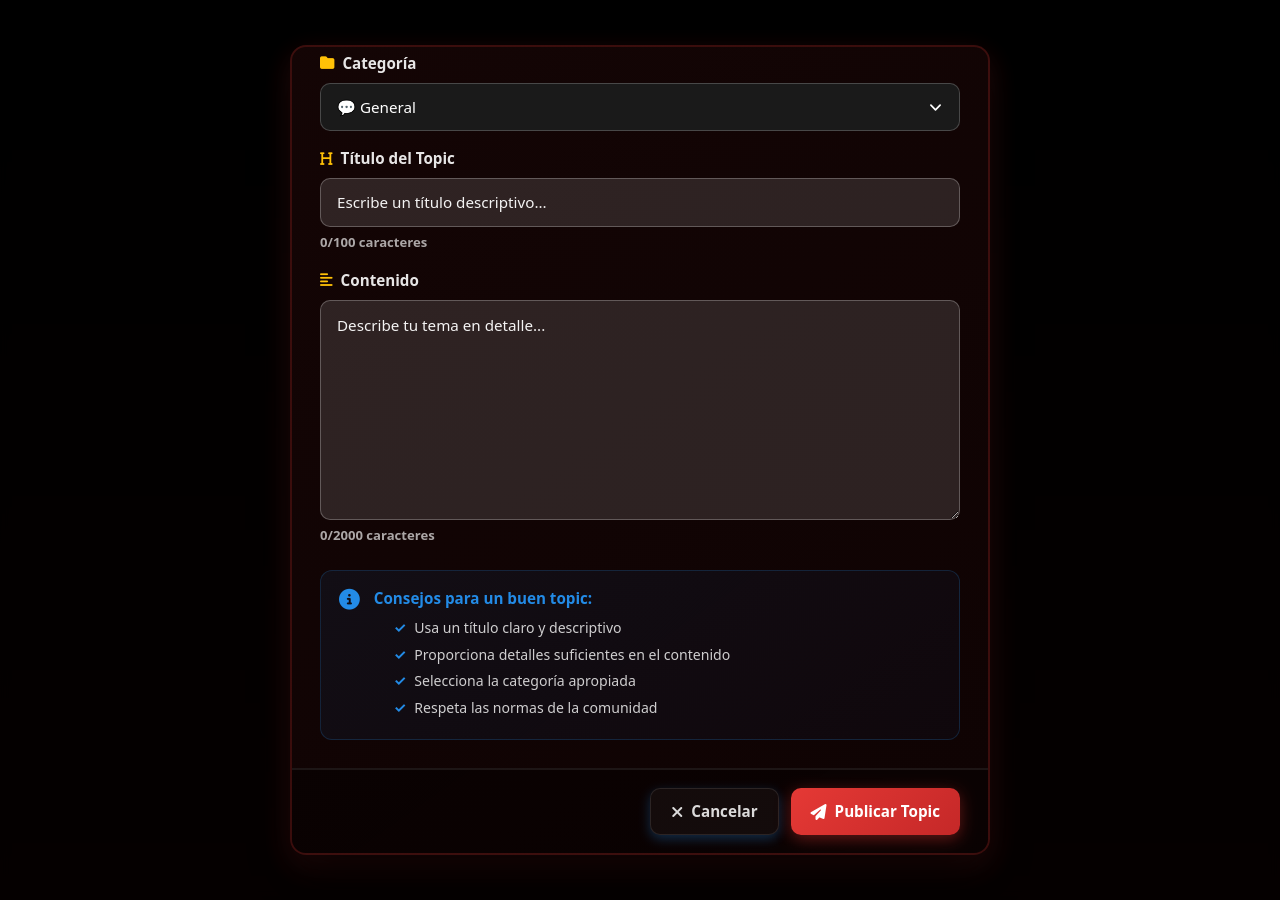
Test: CreateTopicModal › valida campos requeridos y muestra errores
(page scrolled)
Click the button "Publicar Topic".
click(875, 812)  # box 791,788 -> 960,835
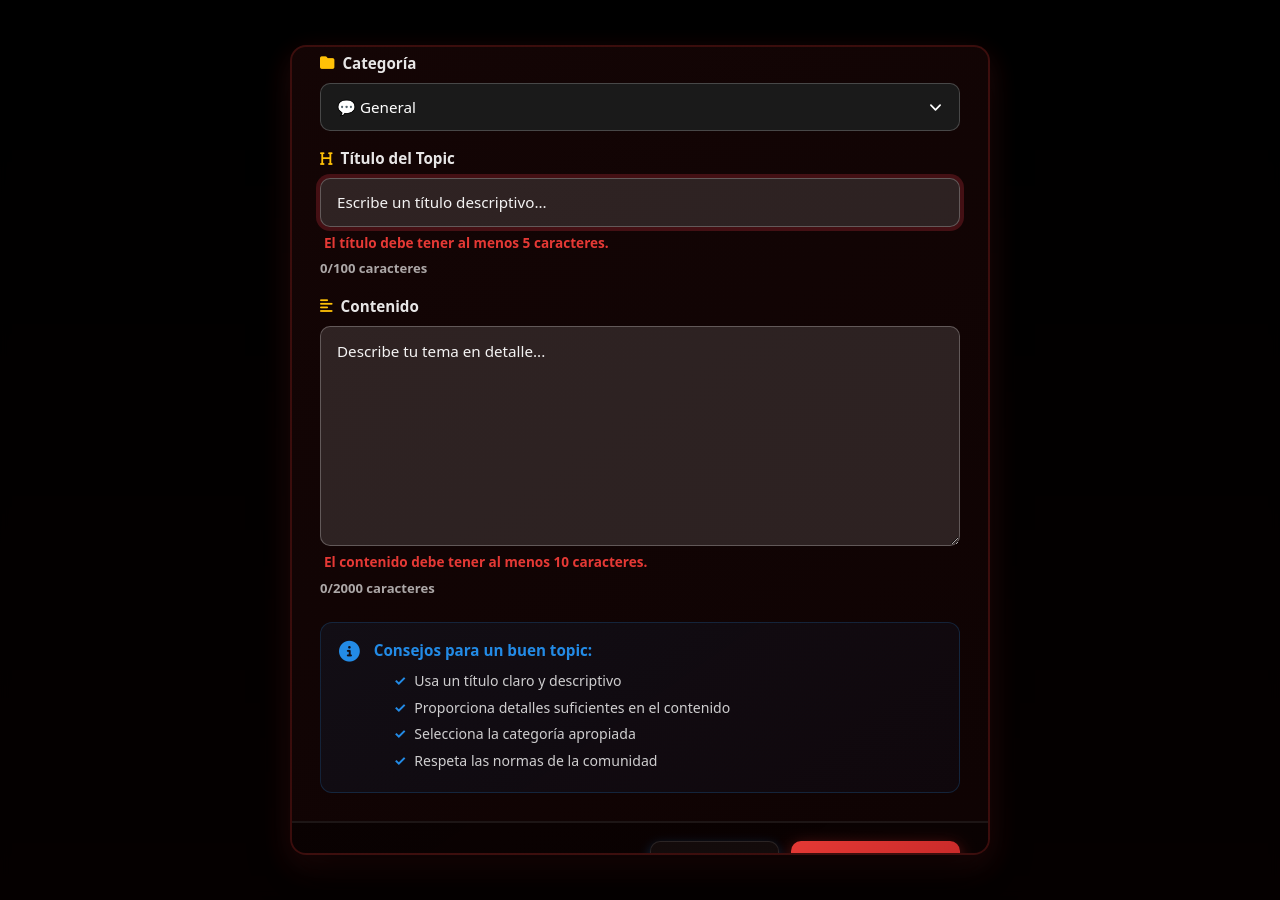
Expected: the text "El título debe tener al menos 5 caracteres." is shown, 324,233 -> 609,252
Expected: the text "El contenido debe tener al menos 10 caracteres." is shown, 324,552 -> 647,571
